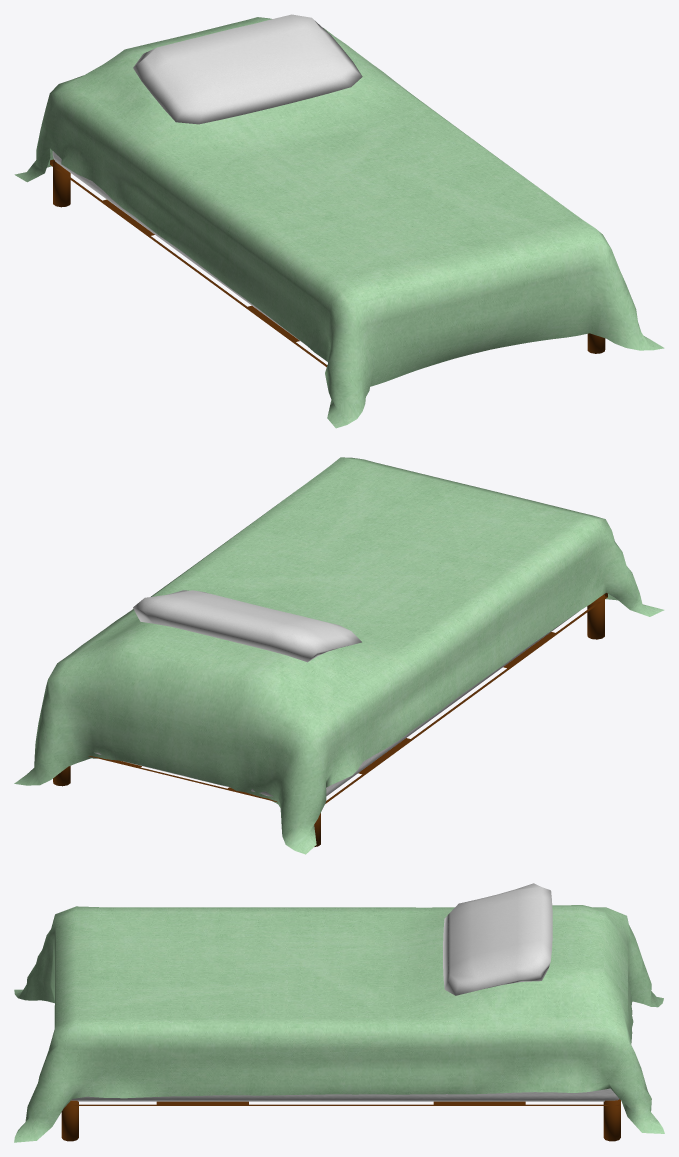
Rendered from Bed.glb.
3 renders of one model, top to bottom at view 1: azimuth 30°, elevation 25°; view 2: azimuth 150°, elevation 25°; view 3: azimuth 270°, elevation 25°, orthographic. The views are drawn at different scales.
Visible parts, largest first — view 1: Plane, Cube.002, Plane.001, Cube, Cylinder.003; view 2: Plane, Cube.002, Plane.001, Cube, Cylinder.002; view 3: Plane, Cube.002, Cube, Plane.001, Cylinder.001, Cylinder.
Part boxes in pixels (<box>): Plane: <box>14,17,664,428</box>; Cube.002: <box>133,14,362,124</box>; Plane.001: <box>50,159,327,366</box>; Cube: <box>52,151,306,345</box>; Cylinder.003: <box>53,160,70,207</box>; Plane: <box>14,457,664,854</box>; Cube.002: <box>133,590,361,662</box>; Plane.001: <box>88,593,607,803</box>; Cube: <box>94,611,578,796</box>; Cylinder.002: <box>587,594,604,639</box>; Plane: <box>14,905,664,1142</box>; Cube.002: <box>443,883,552,995</box>; Cube: <box>71,1088,619,1101</box>; Plane.001: <box>66,1101,620,1105</box>; Cylinder.001: <box>603,1099,620,1141</box>; Cylinder: <box>61,1100,78,1141</box>.
Size of the model in its own units: 3.78 by 1.86 by 6.8.
4 materials, 3 textured.
